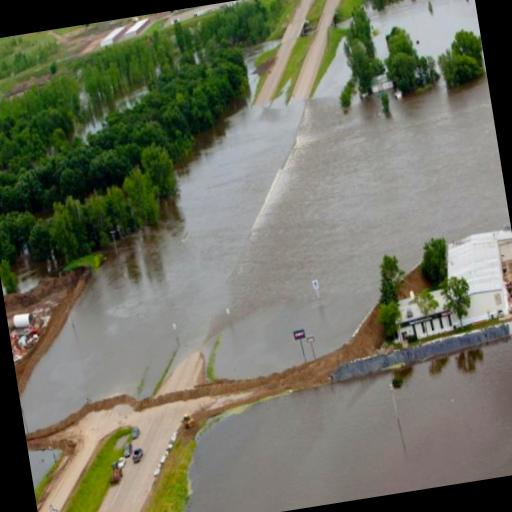flood: (20, 48, 510, 431), (187, 342, 512, 512), (28, 453, 52, 485)
house: (386, 275, 462, 348)
